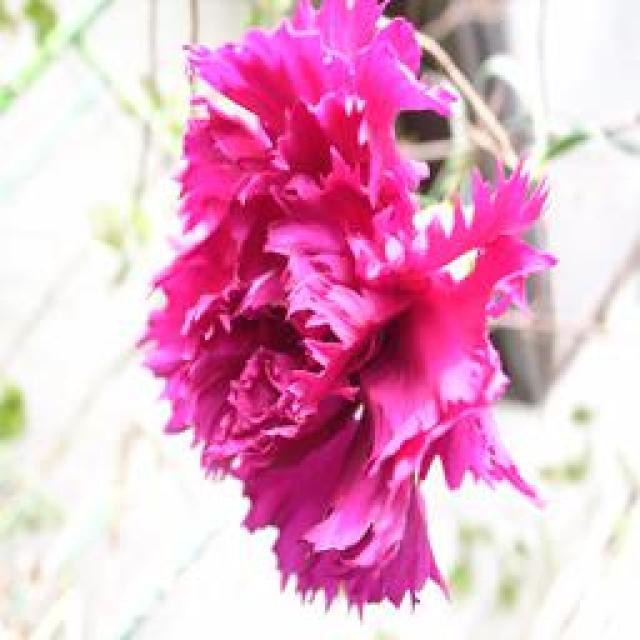carnation: (113, 4, 556, 626)
